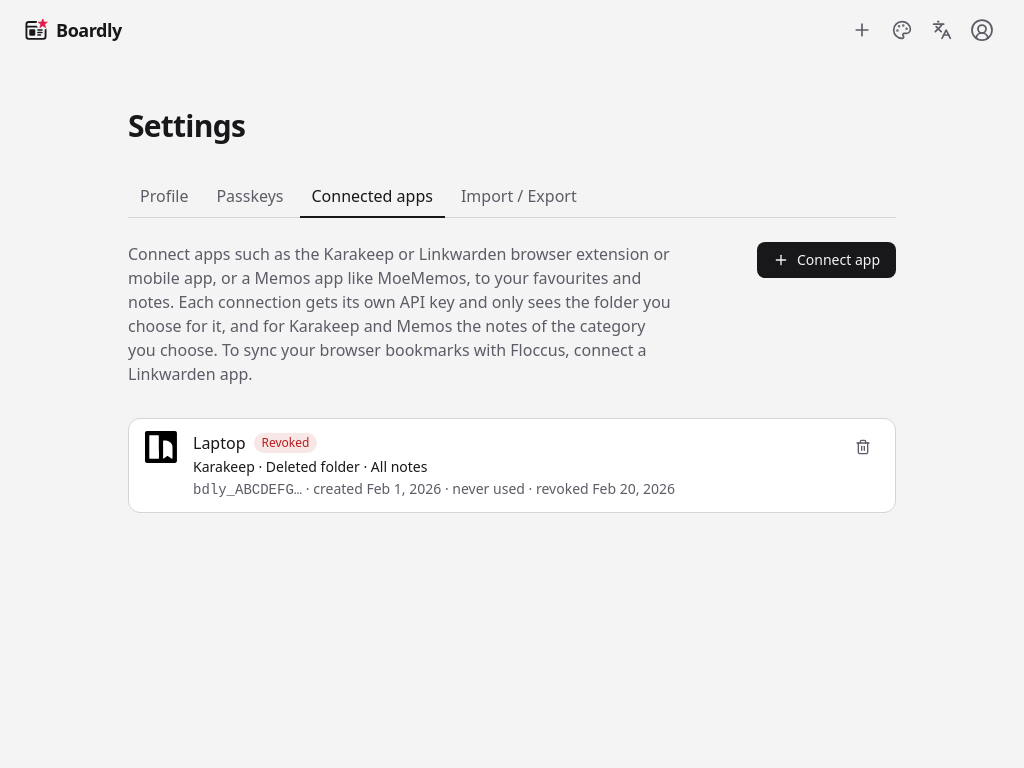
Test: connected apps tab › deletes a revoked token after confirmation
Click the button named "Delete Laptop" at (863, 447), box x1=847 y1=431 x2=879 y2=463
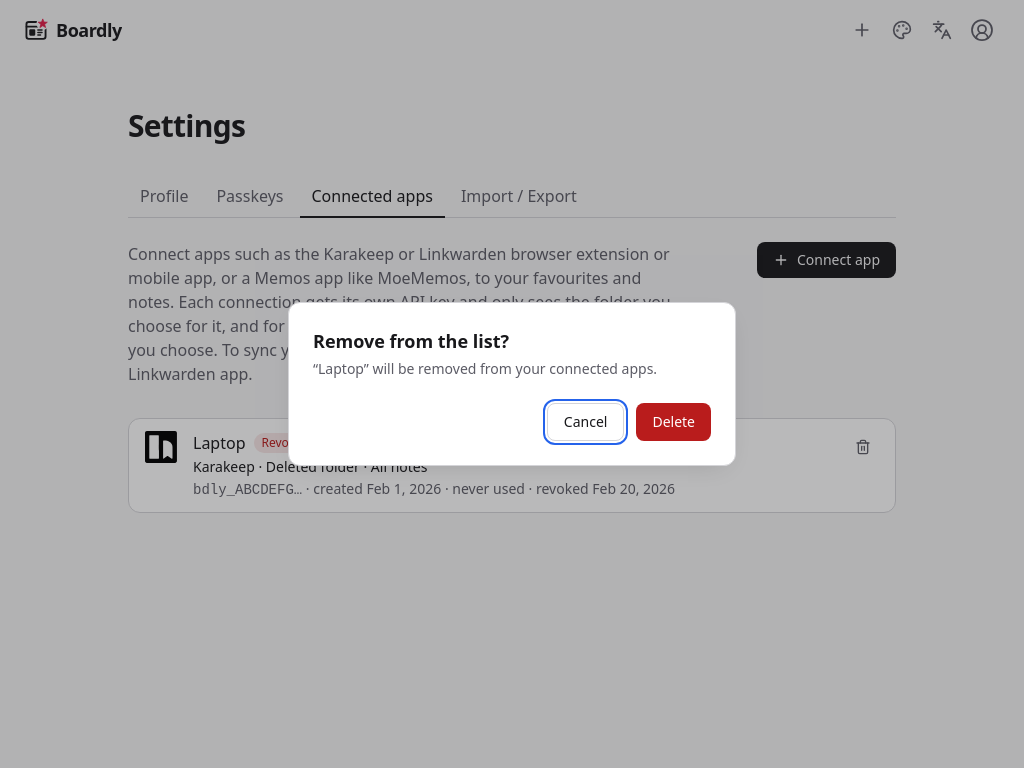
Click the button "Delete" at (674, 422), box x1=636 y1=403 x2=711 y2=441
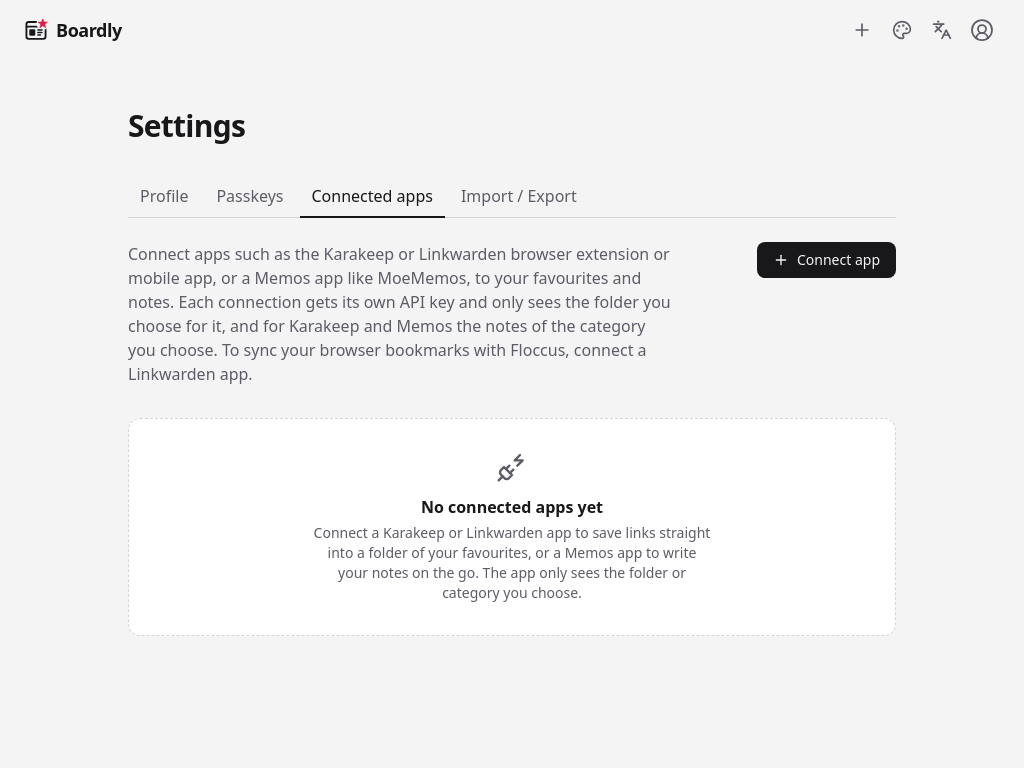
Now the heading "No connected apps yet" is shown, box x1=421 y1=496 x2=603 y2=518
